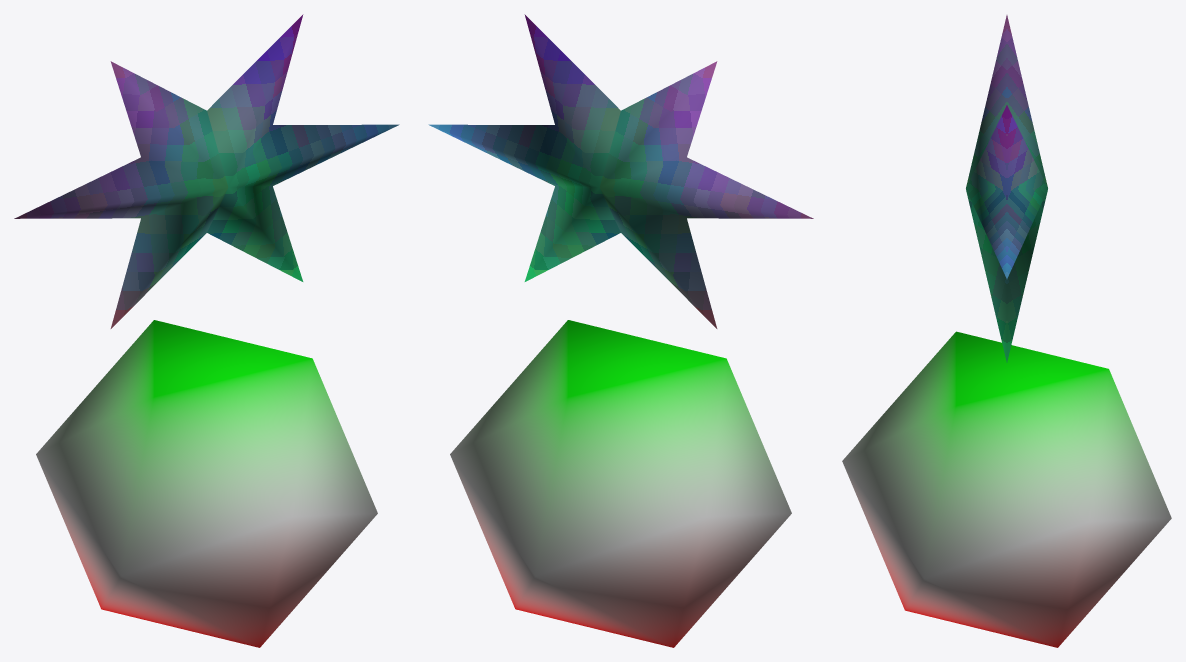
3 renders of one model, left to right at view 1: azimuth 30°, elevation 25°; view 2: azimuth 150°, elevation 25°; view 3: azimuth 270°, elevation 25°, orthographic. The views are drawn at different scales.
Visible parts, largest first — view 1: 20 Sided, PolyMesh3D1; view 2: 20 Sided, PolyMesh3D1; view 3: 20 Sided, PolyMesh3D1.
Boxes of the visible parts, box(x1,y1,x2,y2) form: 20 Sided: box(36, 320, 377, 647); PolyMesh3D1: box(14, 14, 399, 328); 20 Sided: box(450, 320, 791, 647); PolyMesh3D1: box(428, 14, 813, 328); 20 Sided: box(842, 331, 1171, 647); PolyMesh3D1: box(966, 15, 1047, 362).
Size of the model in its own units: 2.61 by 3.69 by 2.
2 materials, 1 textured.
